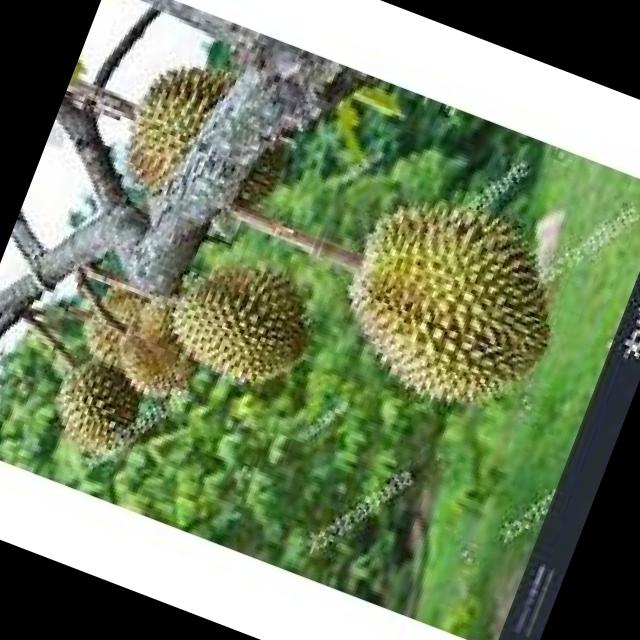fruit: (305, 160, 601, 450), (130, 218, 343, 418)
